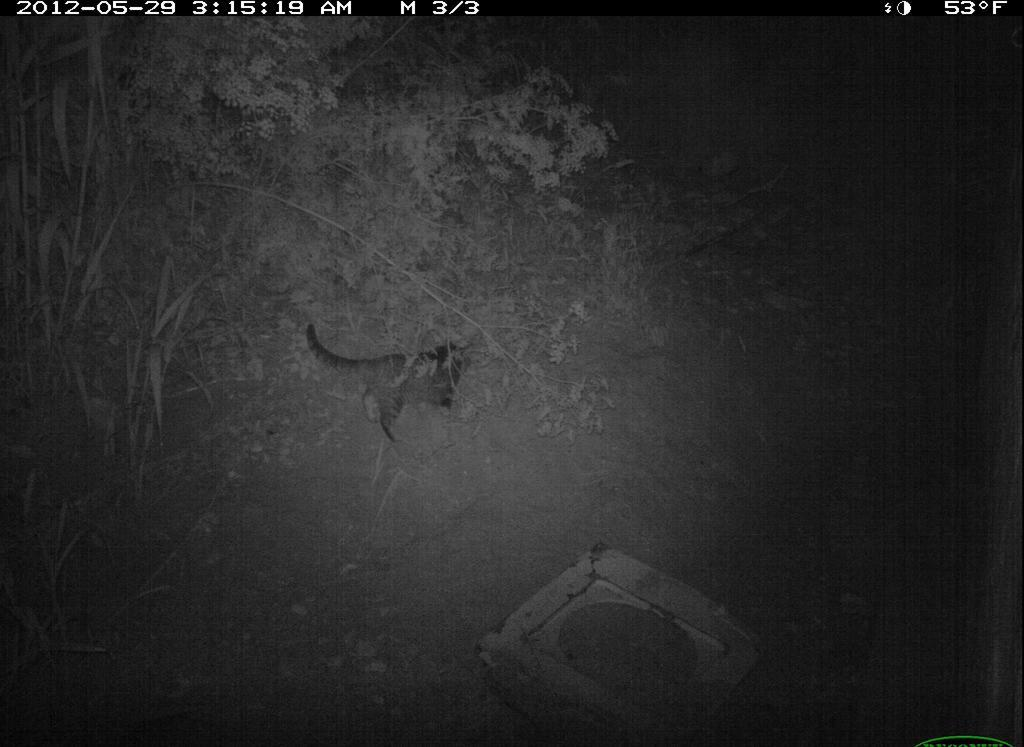cat: (299, 291, 491, 456)
